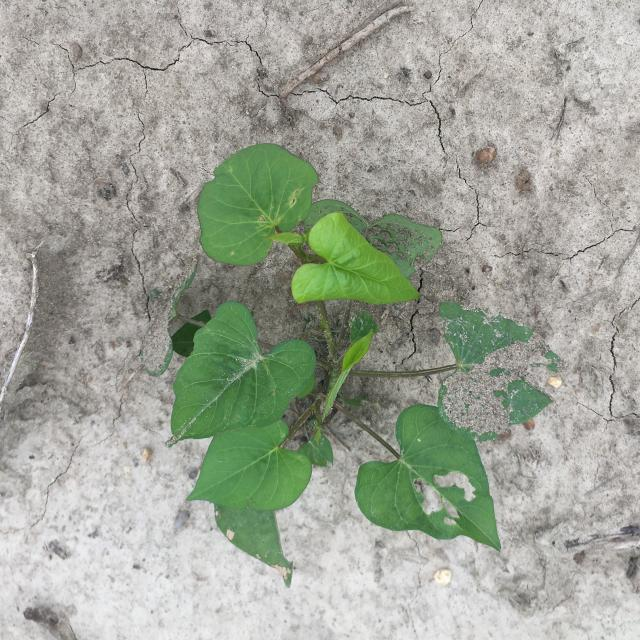MorningGlory: (141, 143, 569, 588)
